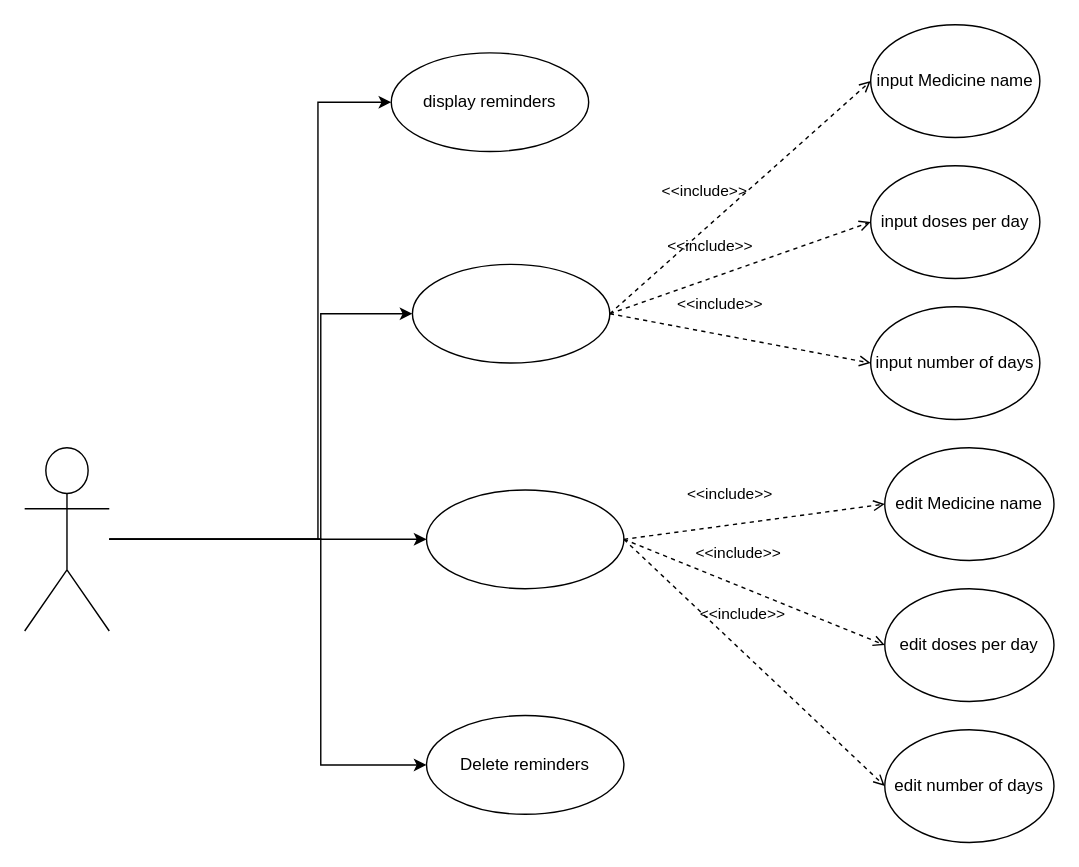
Some shapes in this 1079 by 867 pixel diagram are drawn without their labels. The shapes that lost their labels are listed below. From the top down, each one's centre as x and y in pixels, then its label:
At pixel 510 313: "Add reminders".
At pixel 66 538: "User".
At pixel 524 539: "Edit reminders".
